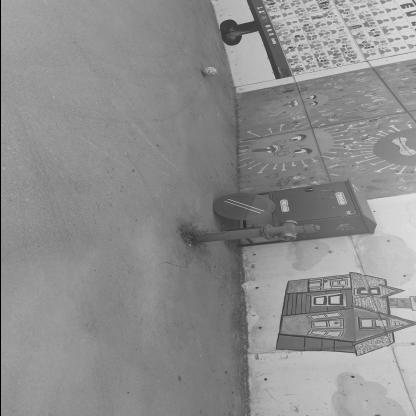No Waiting: (213, 194, 275, 221)
